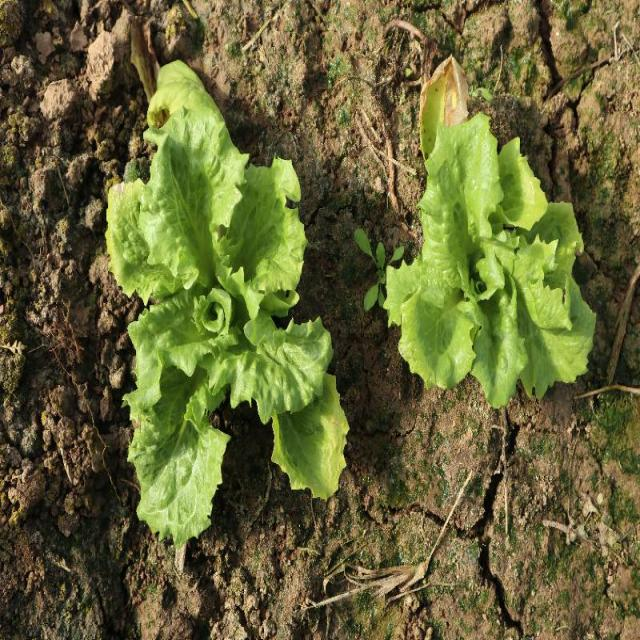crop: (106, 61, 351, 548), (387, 113, 600, 410)
